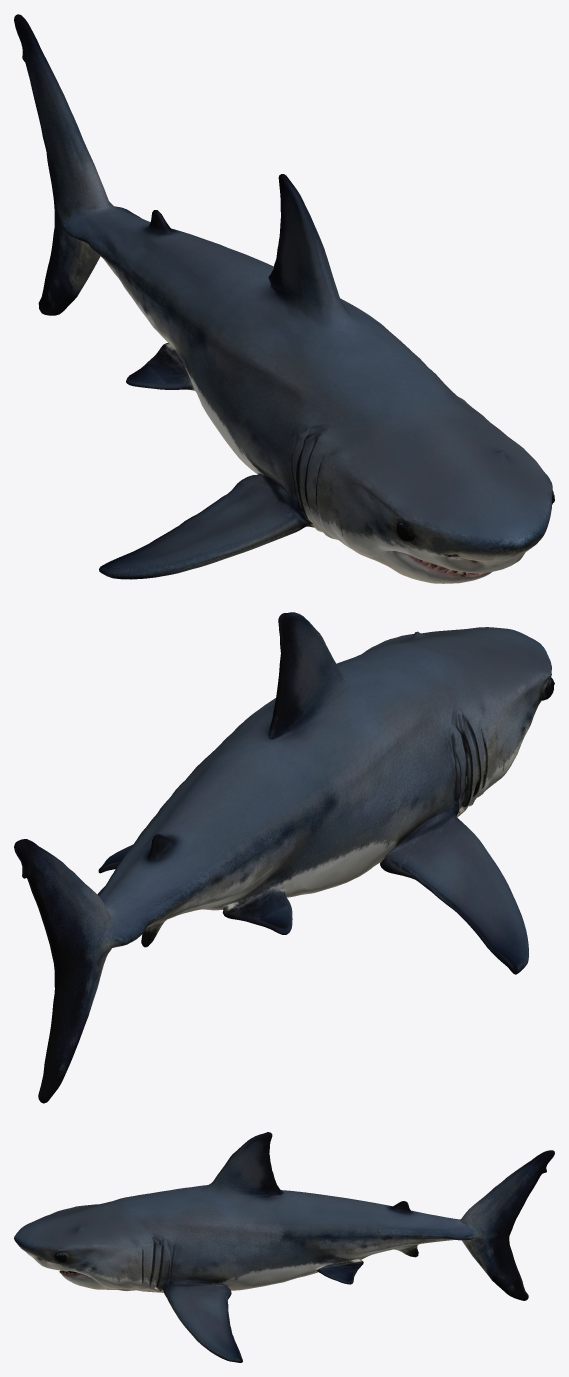
Rendered from shark.glb.
3 renders of one model, top to bottom at view 1: azimuth 30°, elevation 25°; view 2: azimuth 150°, elevation 25°; view 3: azimuth 270°, elevation 25°, orthographic. The views are drawn at different scales.
Visible parts, largest first — view 1: tripo_node_e75dc313-568d-4aa8-958b-3888c36cbaef; view 2: tripo_node_e75dc313-568d-4aa8-958b-3888c36cbaef; view 3: tripo_node_e75dc313-568d-4aa8-958b-3888c36cbaef.
Boxes of the visible parts, x1,y1,x2,y2 form: tripo_node_e75dc313-568d-4aa8-958b-3888c36cbaef: [14, 14, 554, 583]; tripo_node_e75dc313-568d-4aa8-958b-3888c36cbaef: [14, 612, 554, 1103]; tripo_node_e75dc313-568d-4aa8-958b-3888c36cbaef: [14, 1132, 554, 1362].
Size of the model in its own units: 0.4807 by 0.3595 by 1.
Materials: 1 (1 with a texture image).
